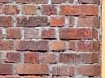brick: (59, 53, 99, 63), (60, 28, 93, 40), (62, 6, 99, 16), (17, 64, 50, 75), (17, 41, 49, 51), (16, 17, 48, 26), (78, 65, 102, 77), (74, 16, 98, 27), (52, 64, 76, 75), (77, 41, 100, 52), (4, 52, 21, 63), (23, 53, 40, 64), (40, 5, 58, 15), (50, 17, 68, 27), (6, 28, 23, 38), (25, 28, 40, 39), (2, 5, 19, 14), (42, 29, 59, 38), (22, 4, 37, 14), (43, 53, 57, 63), (51, 41, 66, 50), (1, 16, 14, 26), (1, 65, 14, 75), (1, 41, 14, 50)
